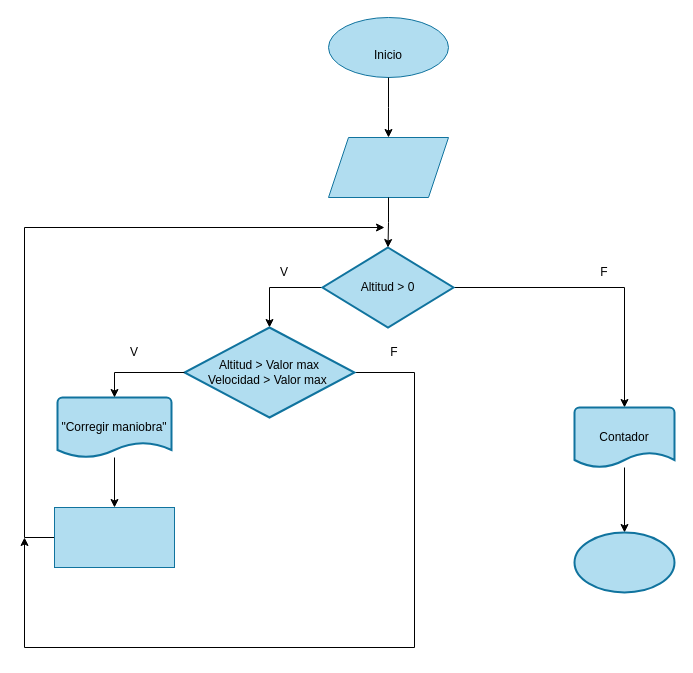
Image size: 693x673. Some labels were removed from this diagram. The shapes that lost their labels are listed below. From the top down, each one's centre as x and y in pixels, then its label:
At [388,167]: "A V Aviso".
At [114,537]: "Contador =cont + 1".
At [624,562]: "Fin".
